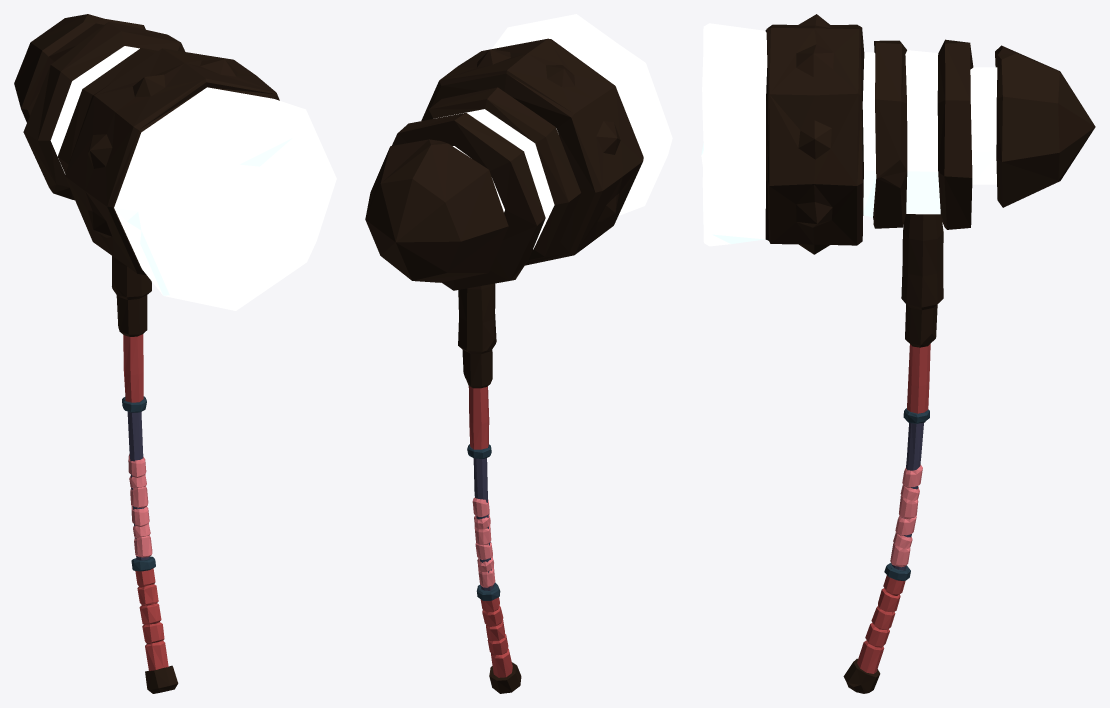
Rendered from SFFA_Weapon_Hammer_Runical_006.fbx.
3 views of the same model, side by side, from view 1: azimuth 30°, elevation 25°; view 2: azimuth 150°, elevation 25°; view 3: azimuth 270°, elevation 25° (orthographic). The views are drawn at different scales.
Parts seen in each view (by area): view 1: SFFA_Weapon_Hammer_Runical_006; view 2: SFFA_Weapon_Hammer_Runical_006; view 3: SFFA_Weapon_Hammer_Runical_006.
Boxes of the visible parts, x1,y1,x2,y2 form: SFFA_Weapon_Hammer_Runical_006: [14, 14, 336, 693]; SFFA_Weapon_Hammer_Runical_006: [365, 14, 672, 693]; SFFA_Weapon_Hammer_Runical_006: [701, 14, 1095, 693].
Size of the model in its own units: 50.55 by 156 by 83.49.
